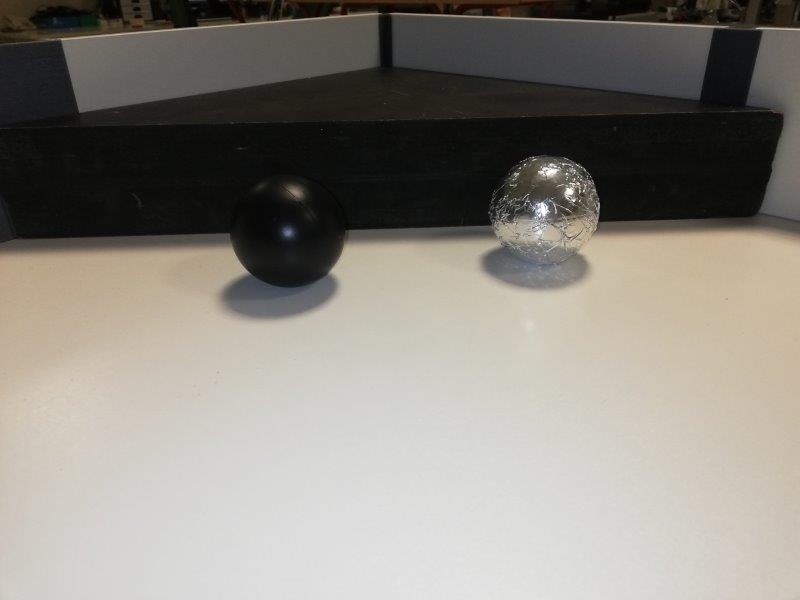bianca: (491, 153, 599, 264)
nera: (232, 174, 345, 287)
